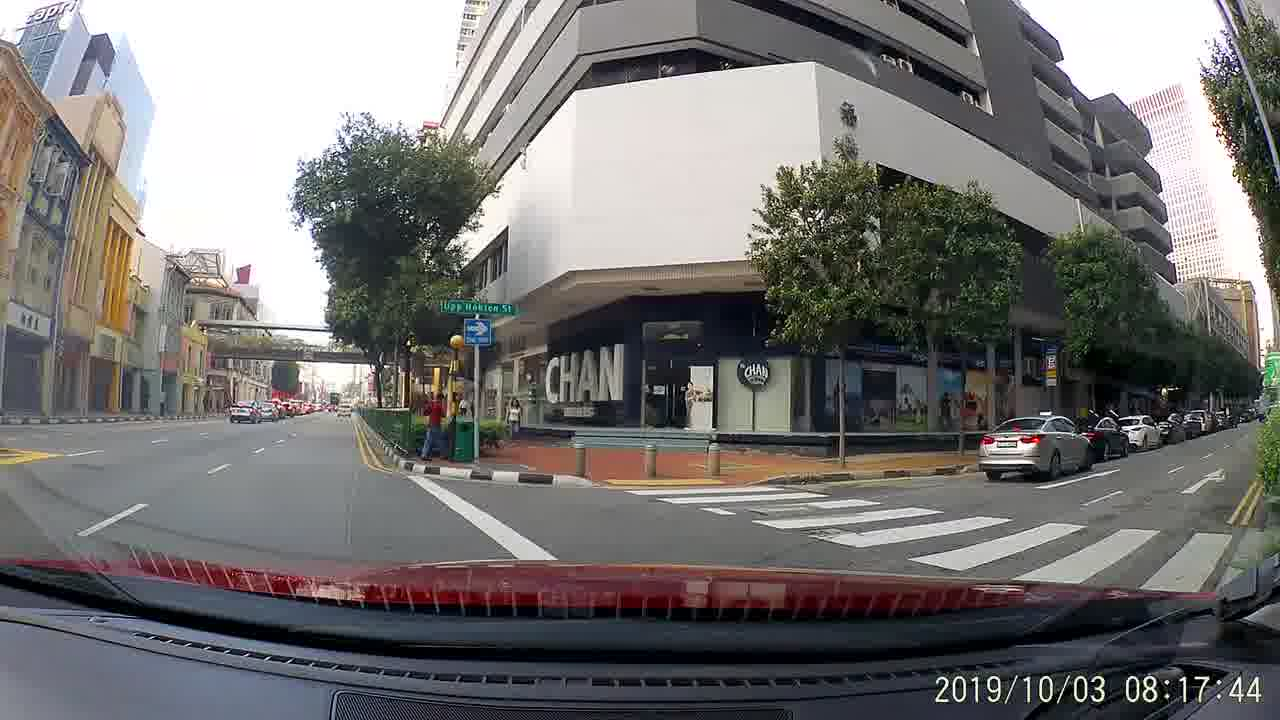car: (976, 411, 1092, 479), (1070, 414, 1129, 459), (1120, 419, 1161, 452), (1153, 411, 1189, 447), (227, 399, 261, 423), (1187, 404, 1213, 434), (257, 401, 282, 421), (335, 399, 351, 418)
